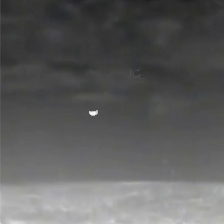Target: (89, 108, 99, 116)
